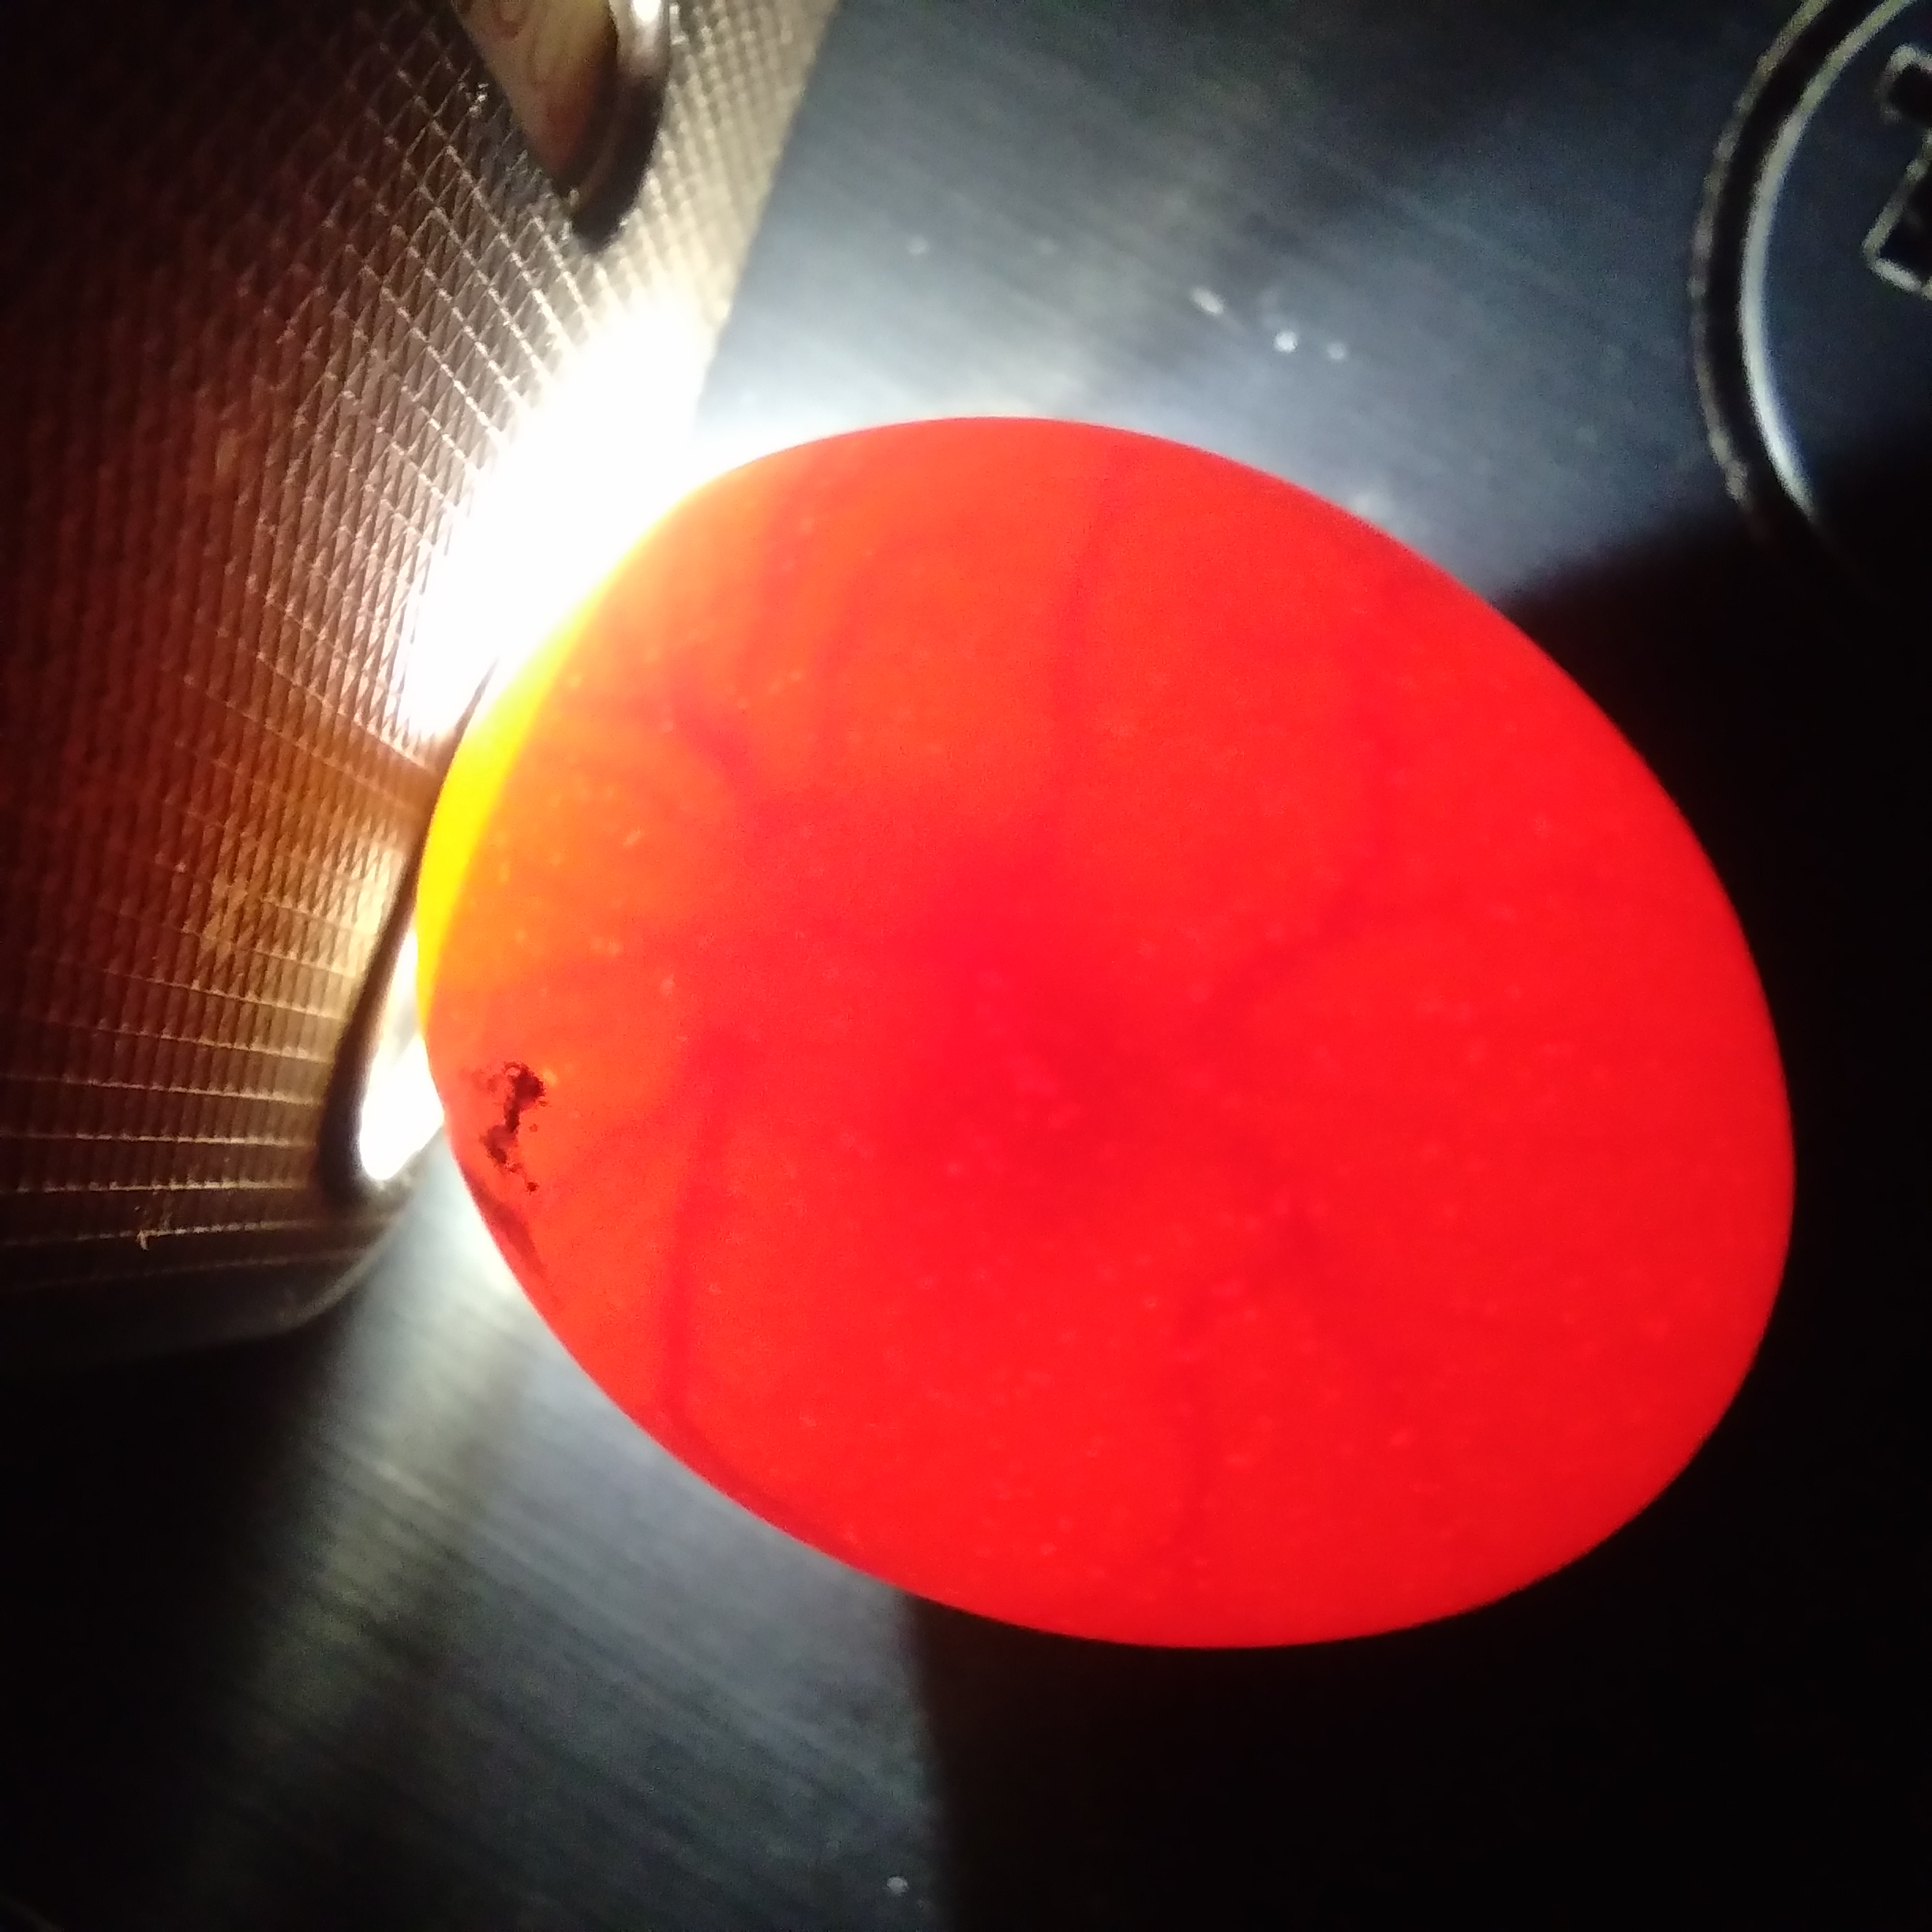bloodcell: (571, 1026, 821, 1348), (621, 621, 777, 752)
embryo: (717, 794, 915, 966)
